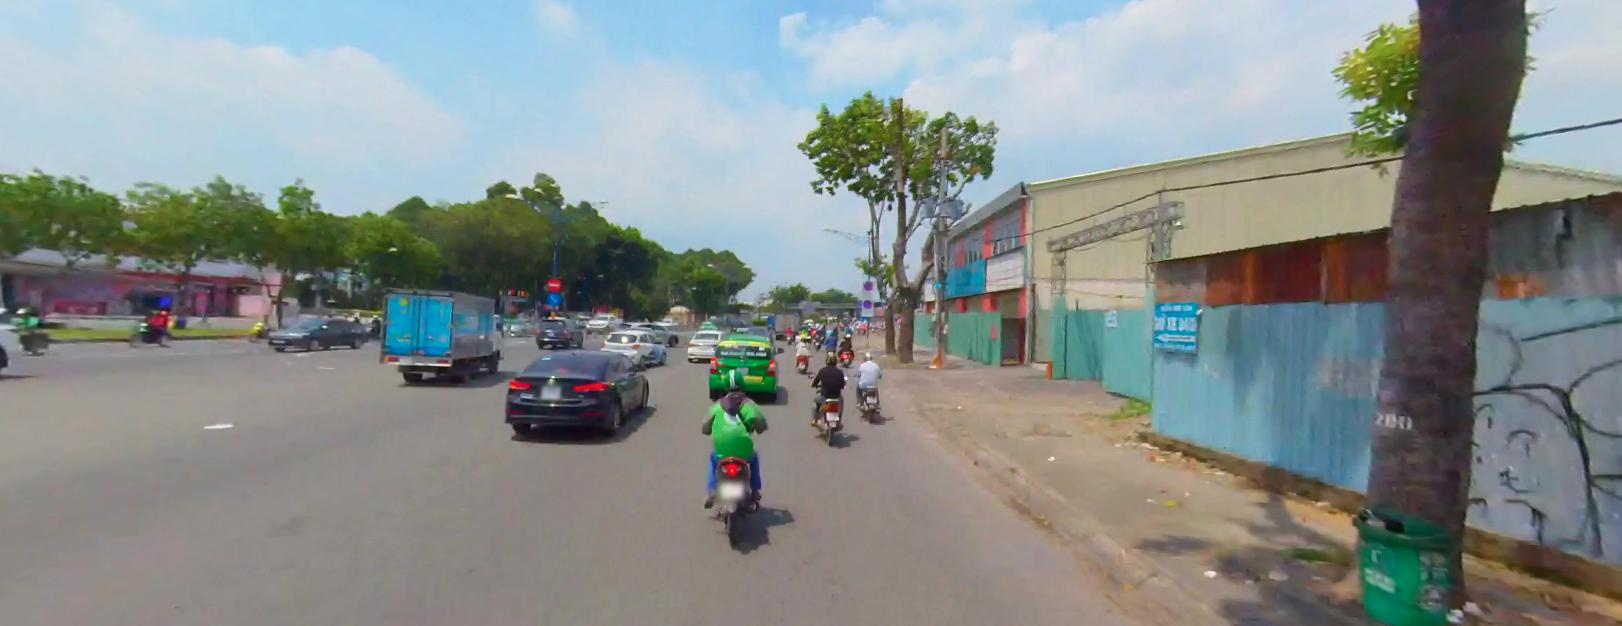Cam dung va do: (863, 299, 871, 307), (864, 280, 872, 289)
Cam nguoc chieu: (546, 276, 559, 290)
Hieu lenh: (546, 291, 560, 304)
